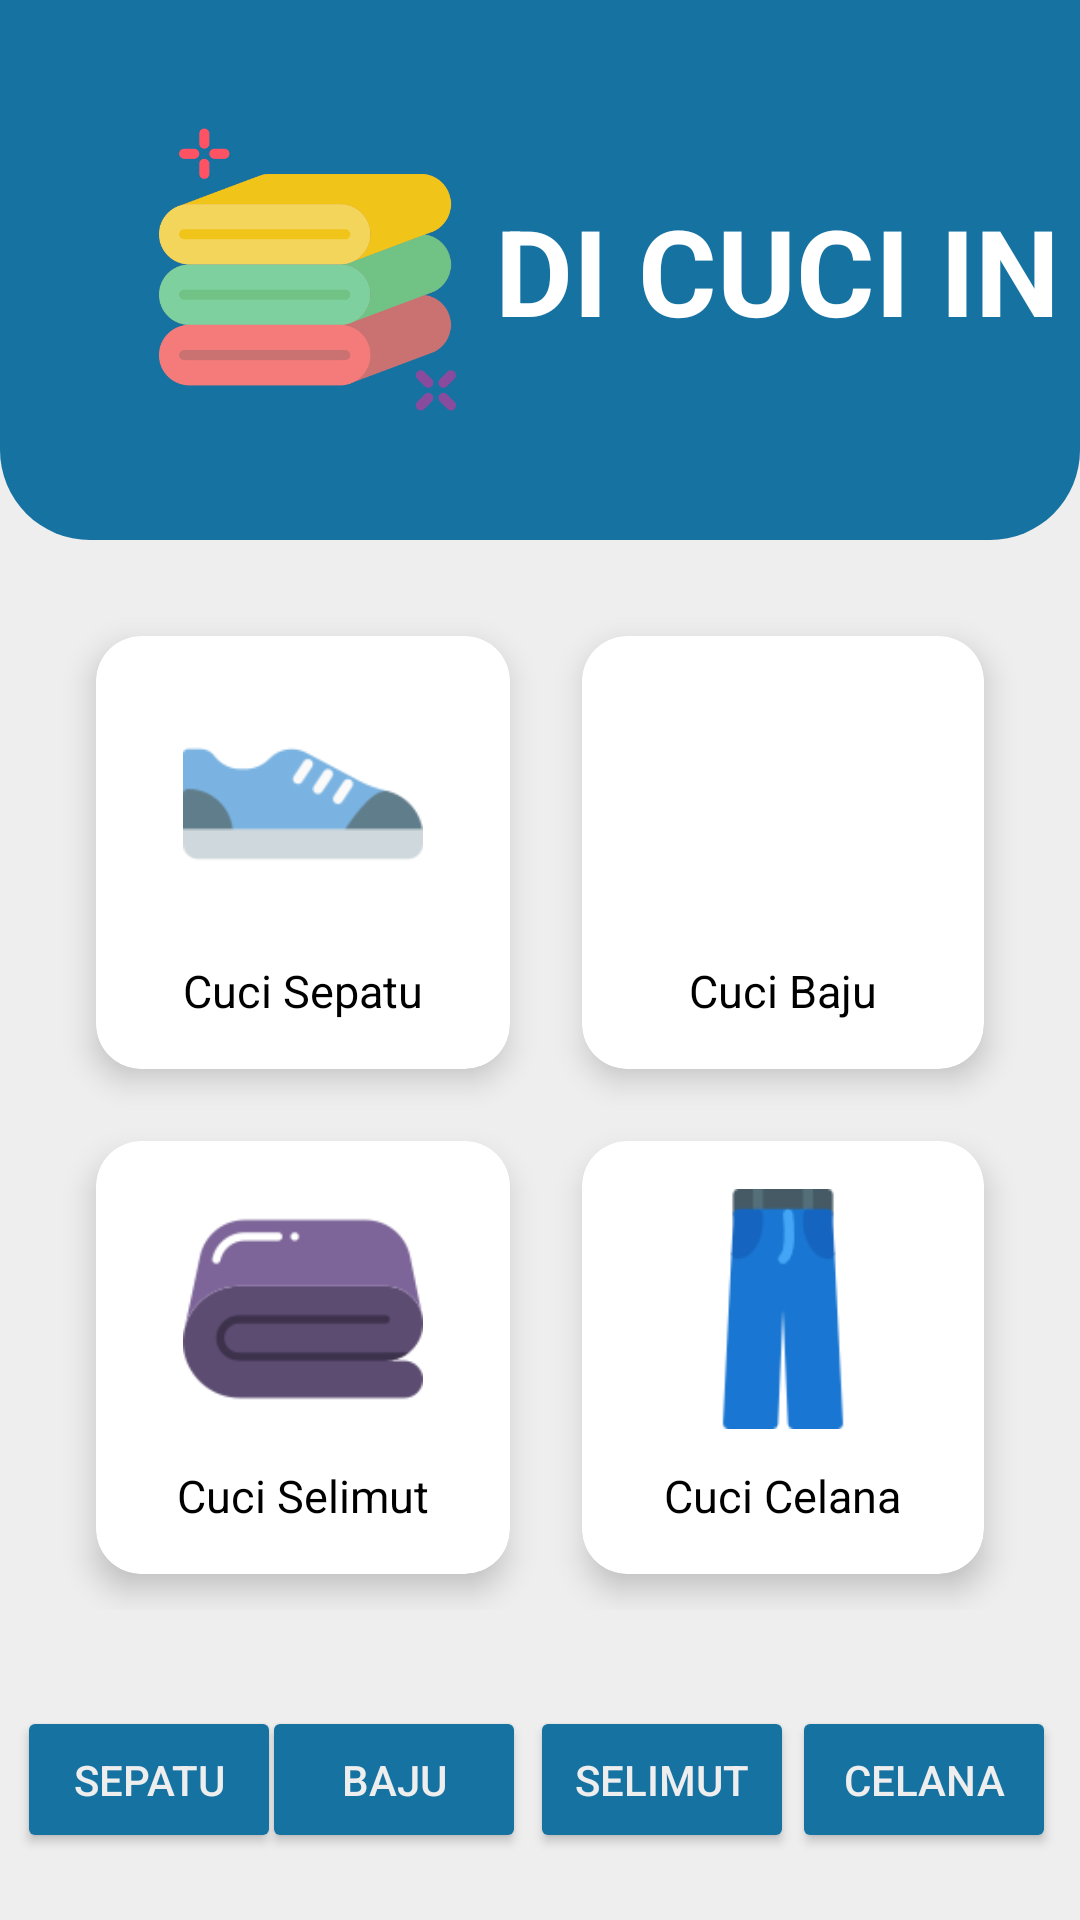

Named icons in this screenshot (1080 × 1920) and their centers, [x,y]:
towels: [307,269]
